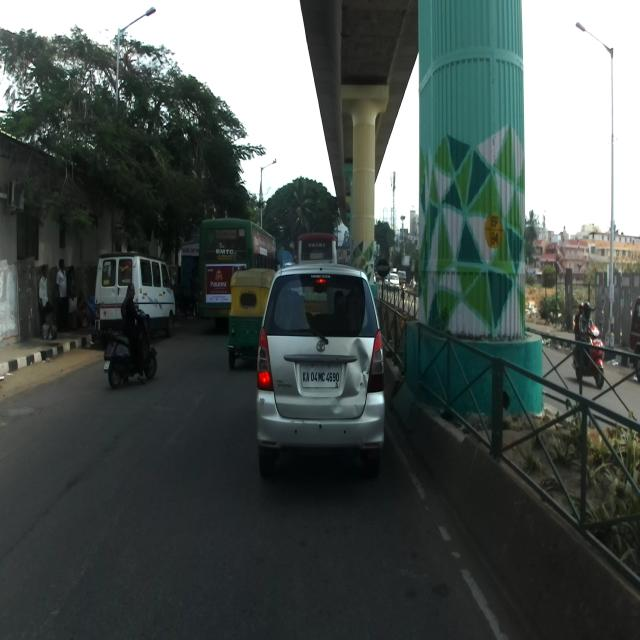car ahead at: (262, 263, 390, 476)
